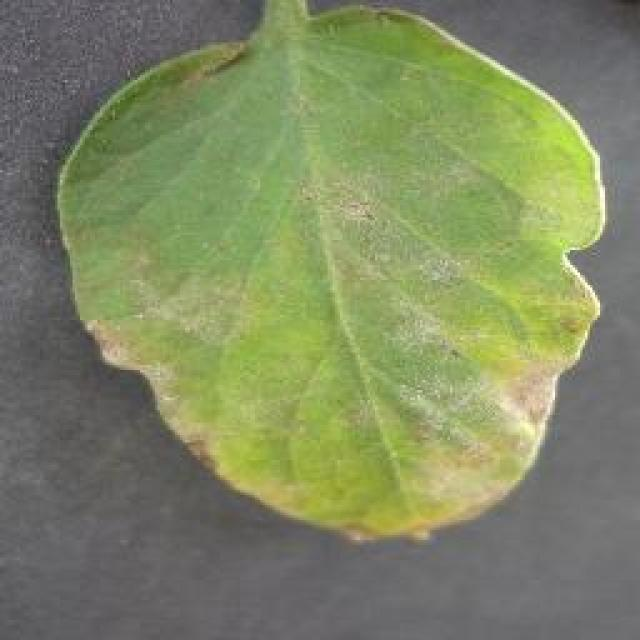Tomato late blight leaf: (50, 0, 605, 540)
